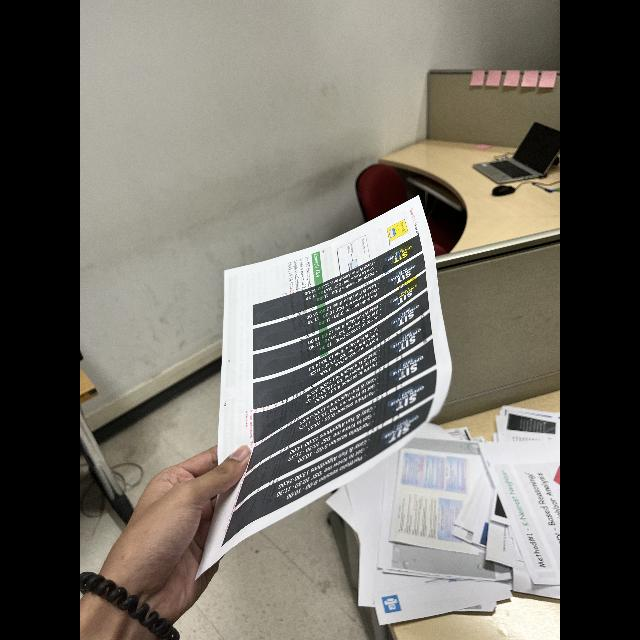reuseable_paper: (199, 190, 457, 576), (322, 401, 560, 624)
